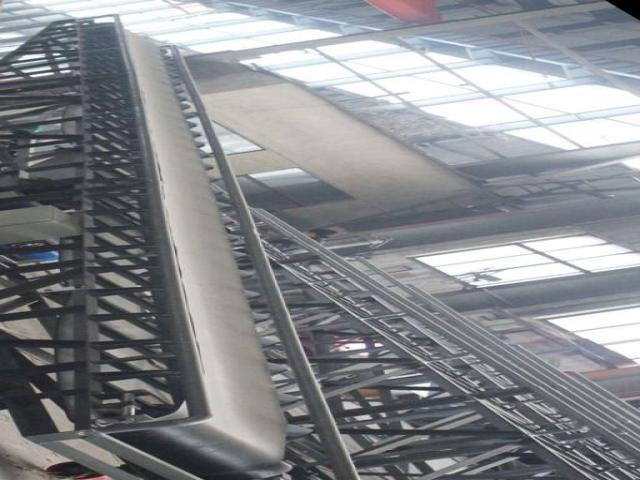conveyor: (0, 12, 294, 479)
